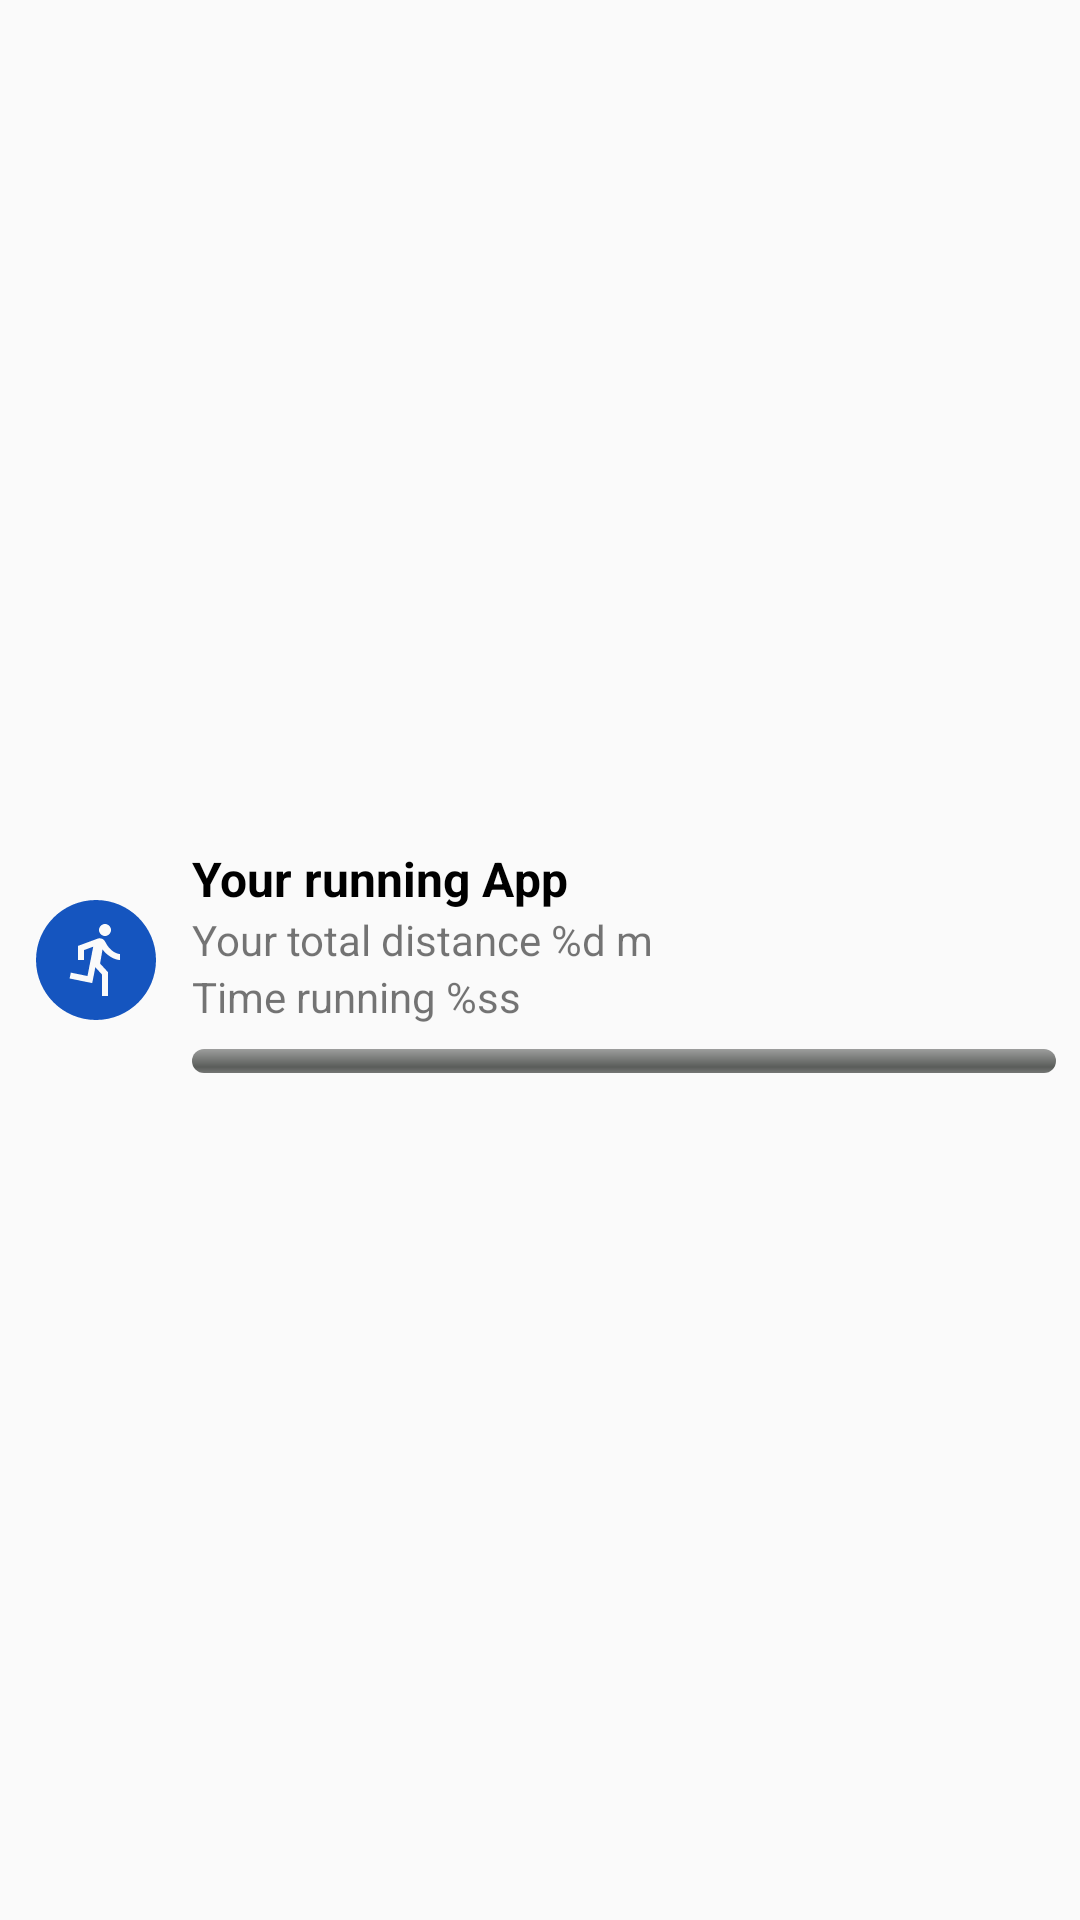

Icons on this 1080*1920 Android screen, each with the point to tap as (x,y):
run: (96,960)
